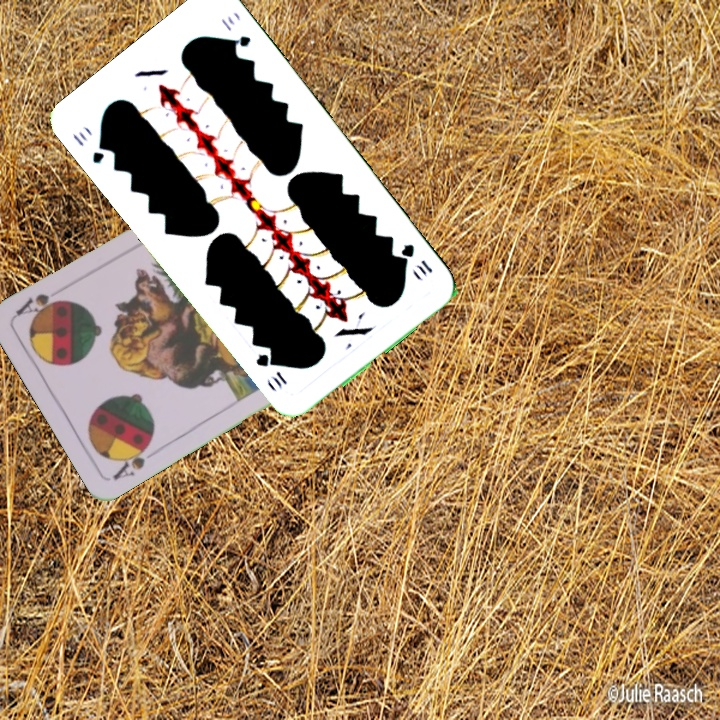G10: (68, 127, 112, 167), (396, 239, 436, 280)
SA: (109, 436, 155, 483)
